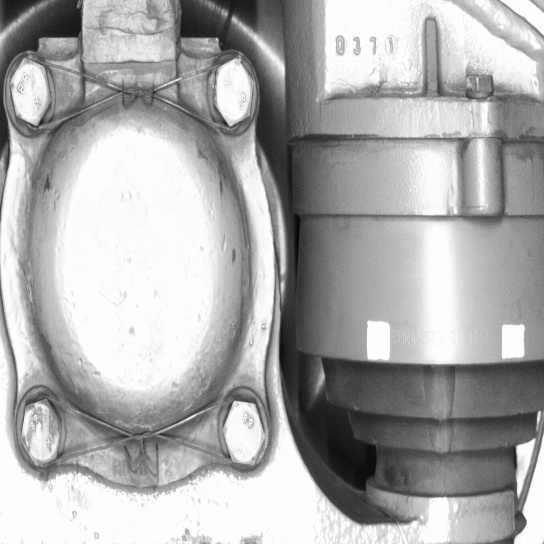IronWire: (4, 50, 260, 136), (14, 391, 270, 473)
Screw: (205, 50, 259, 135), (4, 51, 55, 134), (217, 392, 269, 472), (15, 391, 65, 472)
